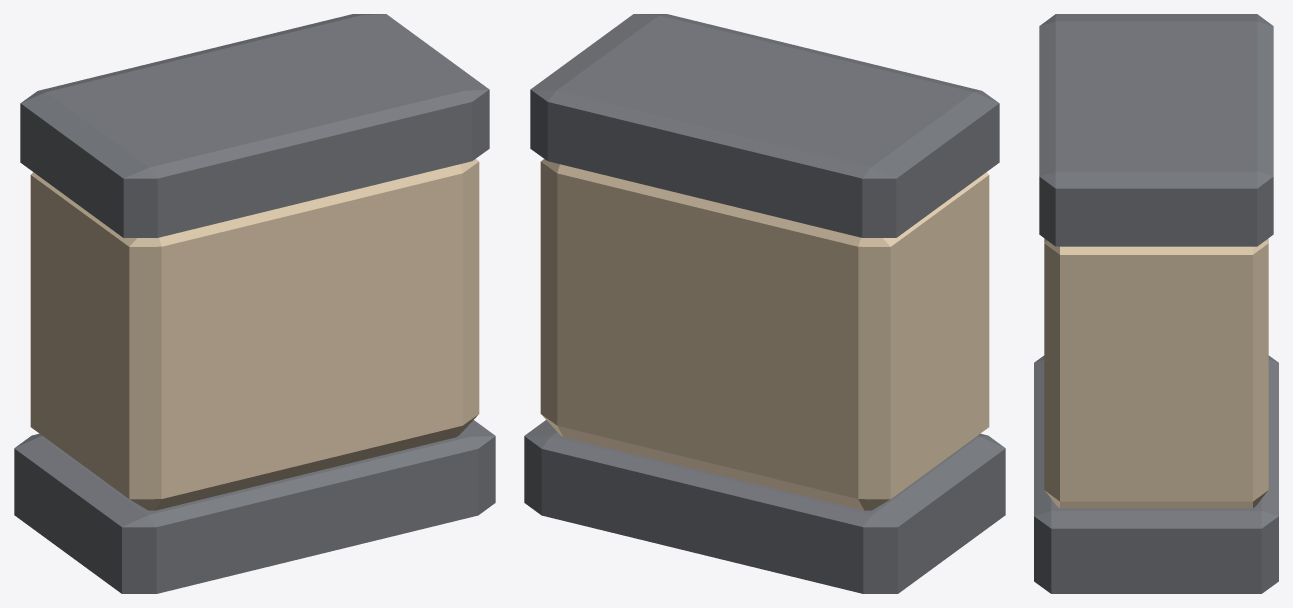
Rendered from b10_taco_preparation_service_station.glb.
3 renders of one model, left to right at view 1: azimuth 30°, elevation 25°; view 2: azimuth 150°, elevation 25°; view 3: azimuth 270°, elevation 25°, orthographic. The views are drawn at different scales.
Parts seen in each view (by area): view 1: b10_taco_preparation_service_station; view 2: b10_taco_preparation_service_station; view 3: b10_taco_preparation_service_station.
Part boxes in pixels (x1,y1,x2,y2): b10_taco_preparation_service_station: [14, 14, 495, 593]; b10_taco_preparation_service_station: [524, 14, 1005, 593]; b10_taco_preparation_service_station: [1034, 14, 1278, 593].
Size of the model in its own units: 1.5 by 1.62 by 0.87.
